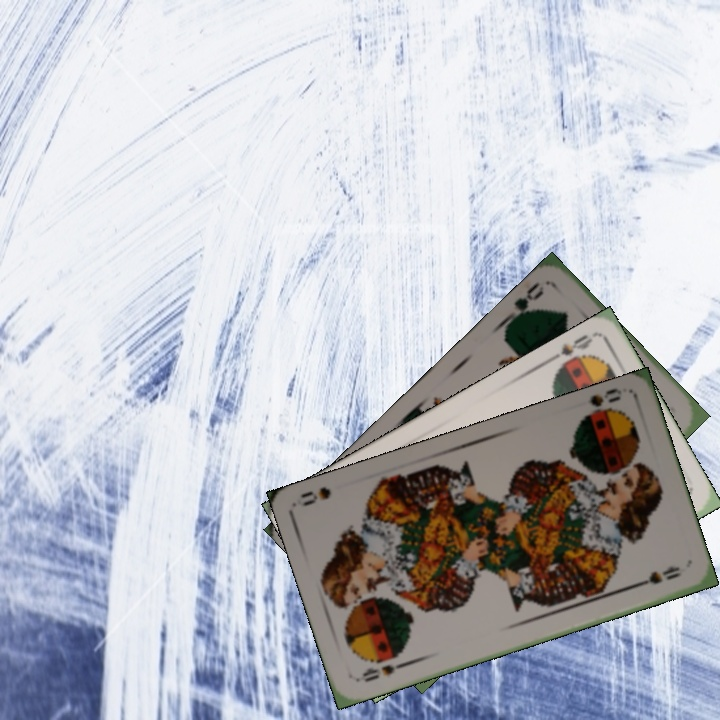GO: (500, 278, 547, 327)
SO: (542, 330, 596, 377), (575, 384, 625, 425), (358, 657, 412, 685)
